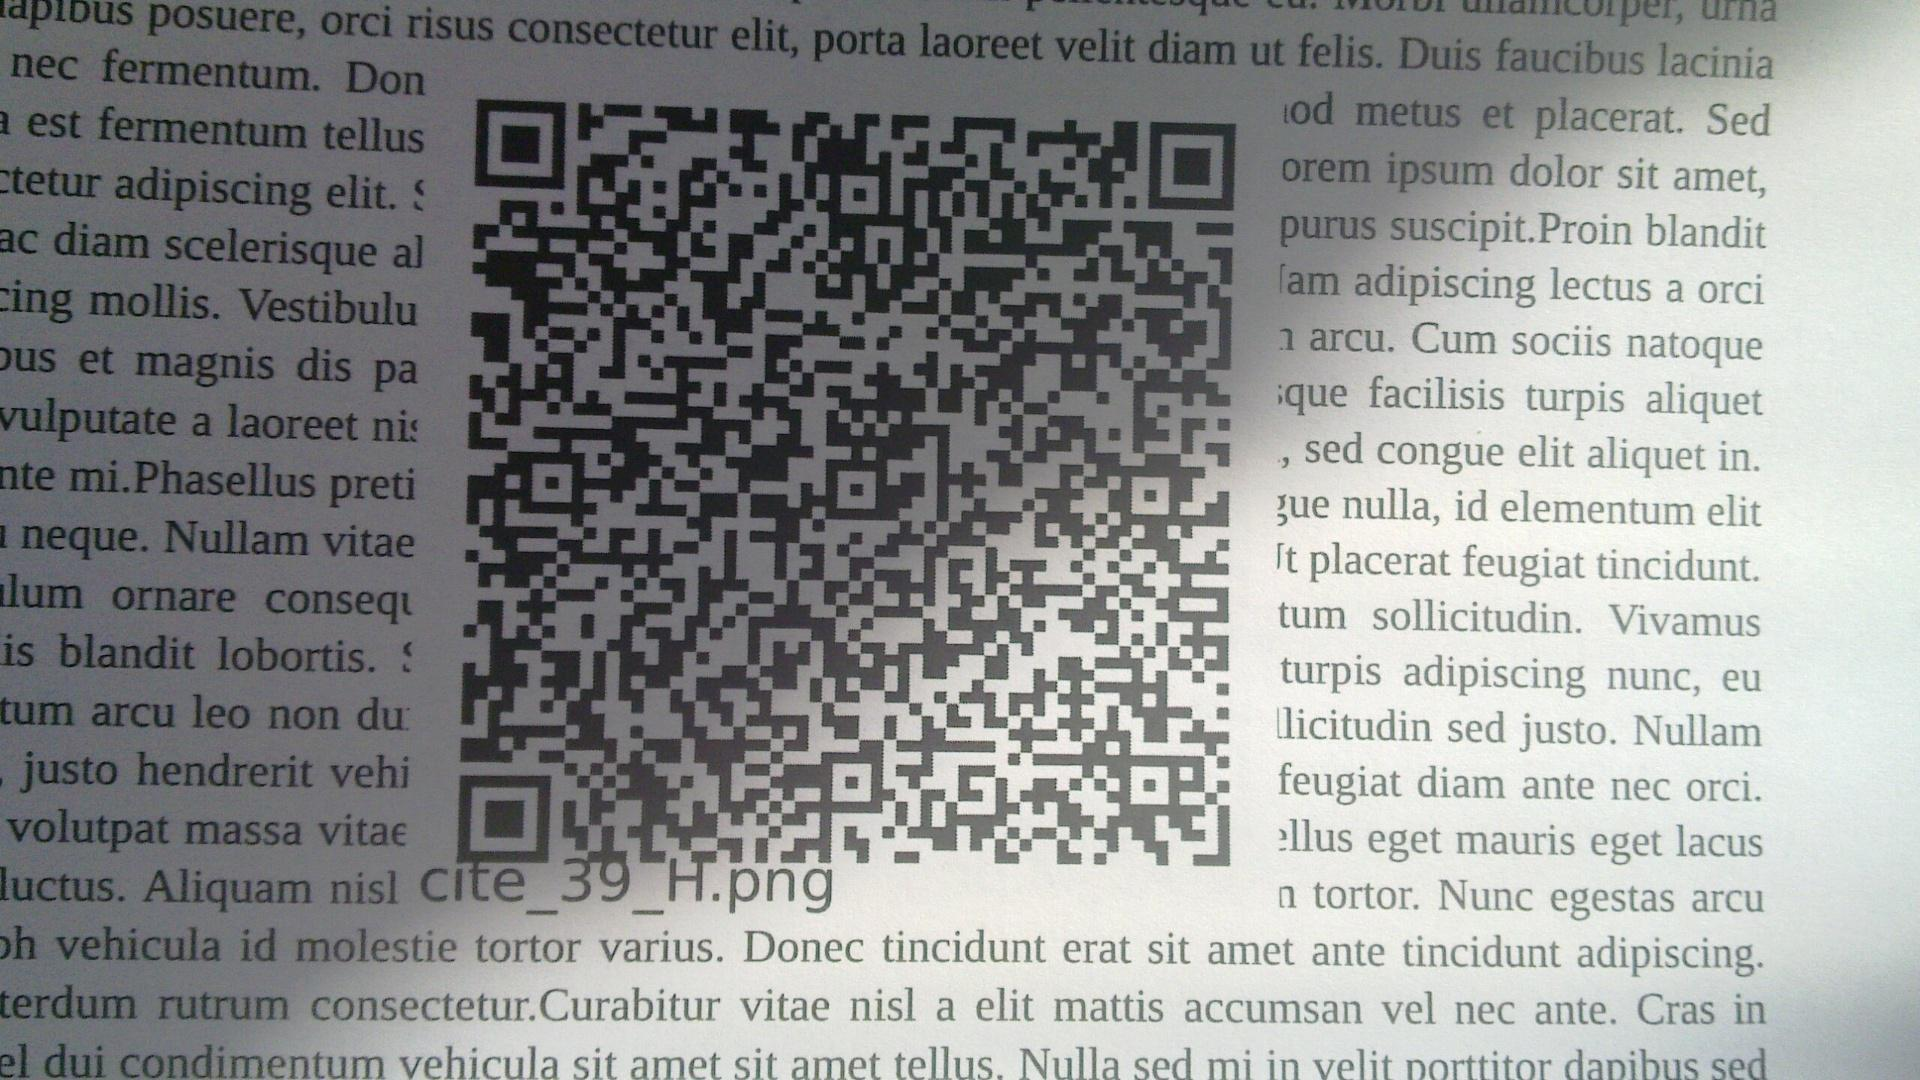Finder pattern: (467, 90, 571, 195), (456, 766, 560, 868), (1143, 113, 1242, 215)
